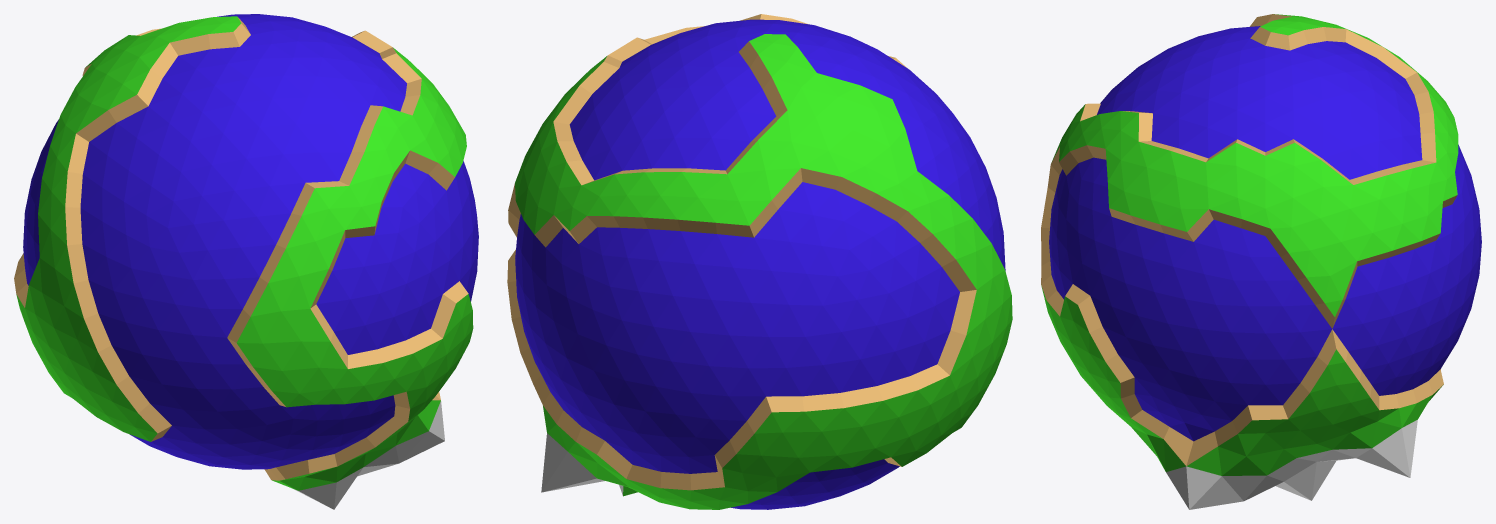
Rendered from poly planet.fbx.
3 views of the same model, side by side, from view 1: azimuth 30°, elevation 25°; view 2: azimuth 150°, elevation 25°; view 3: azimuth 270°, elevation 25° (orthographic). The views are drawn at different scales.
Parts seen in each view (by area): view 1: Icosphere; view 2: Icosphere; view 3: Icosphere.
Boxes of the visible parts, <box> form: Icosphere: <box>14,14,478,509</box>; Icosphere: <box>507,14,1012,509</box>; Icosphere: <box>1041,14,1481,509</box>.
Size of the model in its own units: 1032 by 1126 by 1018.
